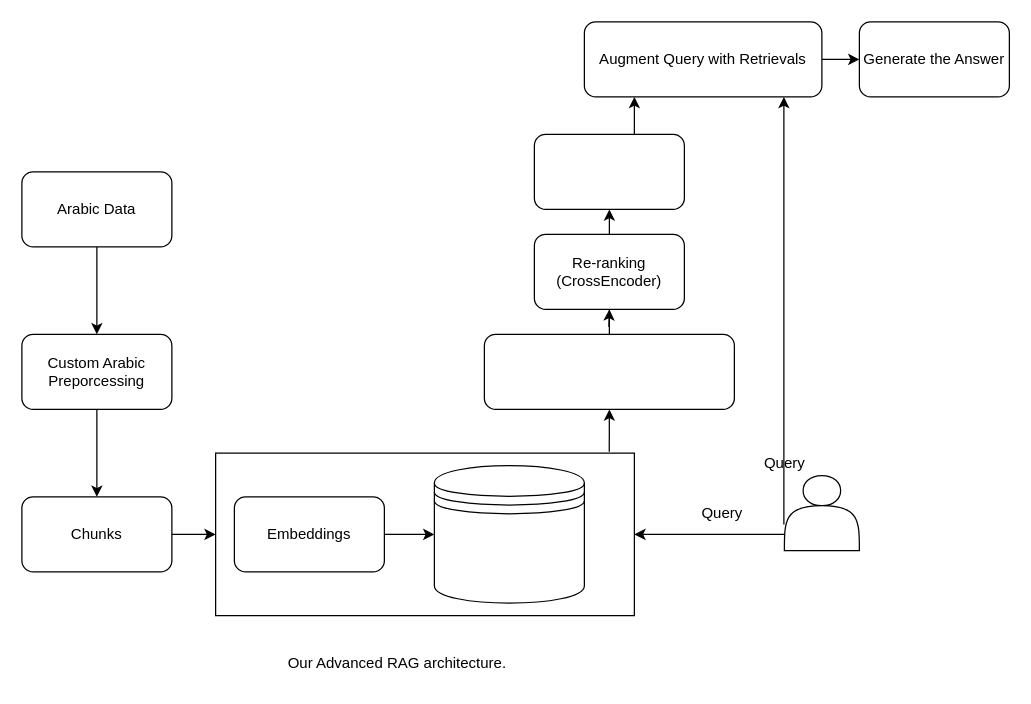
The diagram is 1031 pixels wide and 704 high, and some of its shapes have lost their labels. The centre of each missing label's shape, as x and y in pixels:
"Hybrid Retrieval Model (Sparse-Dense)" goes at (x=608, y=371).
"NER" goes at (x=608, y=171).
"User" goes at (x=821, y=512).
"Vector Database" goes at (x=508, y=533).
